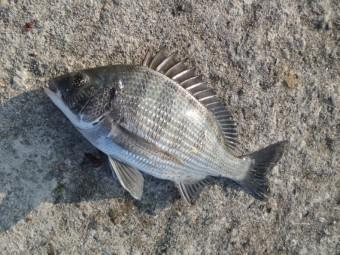fish: (44, 48, 285, 201)
